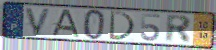0: (82, 9, 106, 41)
5: (139, 13, 161, 42)
A: (49, 9, 82, 39)
D: (108, 10, 137, 42)
R: (165, 14, 193, 45)
V: (24, 6, 53, 37)
